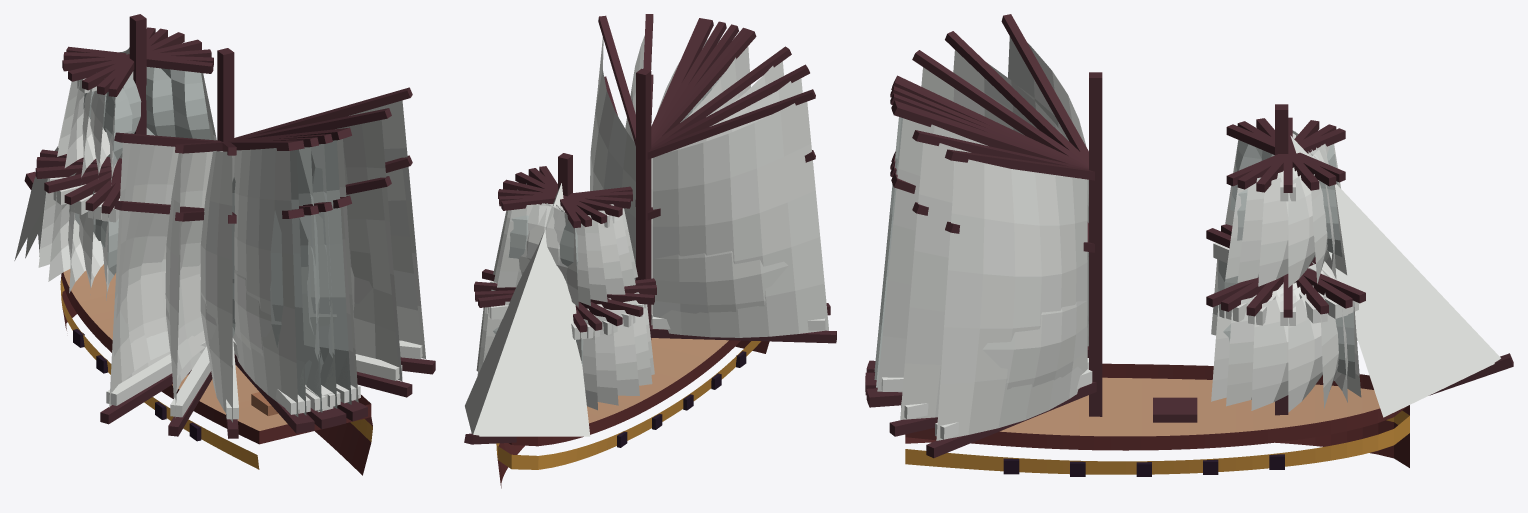
Rendered from ship.brigantine.glb.
3 views of the same model, side by side, from view 1: azimuth 30°, elevation 25°; view 2: azimuth 150°, elevation 25°; view 3: azimuth 270°, elevation 25° (orthographic). The views are drawn at different scales.
Parts seen in each view (by area): view 1: full_close_s_main, hull, full_run_main, full_beam_s_main, half_beam_p_main, full_irons_p1_main, full_broad_s_main, half_run_main, full_beam_p_main, half_broad_p_main, full_irons_s1_main, full_irons_p0_fore_top (+54 smaller); view 2: full_run_main, full_run_jib, hull, half_run_main, full_broad_p_main, main, bulwark, full_broad_p_jib, full_run_gaff, full_broad_p_fore_top, full_run_fore_course, full_broad_s_gaff (+40 smaller); view 3: full_broad_p_main, hull, full_broad_p_jib, full_beam_p_main, bulwark, full_close_p_main, half_broad_p_main, main, full_broad_p_fore_course, full_run_fore_course, full_broad_p_fore_top, full_beam_p_fore_course (+33 smaller).
Boxes of the visible parts, x1,y1,x2,y2 form: full_close_s_main: [232, 148, 298, 416]; hull: [60, 264, 372, 475]; full_run_main: [109, 142, 178, 407]; full_beam_s_main: [200, 151, 232, 422]; half_beam_p_main: [346, 188, 398, 366]; full_irons_p1_main: [308, 140, 351, 404]; full_broad_s_main: [165, 151, 212, 417]; half_run_main: [111, 210, 169, 392]; full_beam_p_main: [335, 120, 402, 381]; half_broad_p_main: [386, 168, 421, 345]; full_irons_s1_main: [232, 150, 306, 415]; full_irons_p0_fore_top: [104, 68, 211, 139]; full_run_main: [653, 102, 828, 337]; full_run_jib: [473, 183, 590, 436]; hull: [496, 338, 769, 488]; half_run_main: [653, 251, 788, 317]; full_broad_p_main: [590, 37, 635, 248]; main: [636, 68, 651, 339]; bulwark: [509, 340, 740, 446]; full_broad_p_jib: [465, 185, 560, 434]; full_run_gaff: [647, 89, 815, 159]; full_broad_p_fore_top: [526, 183, 607, 302]; full_run_fore_course: [587, 308, 639, 395]; full_broad_s_gaff: [651, 64, 809, 148]; full_broad_p_main: [936, 159, 1087, 440]; hull: [905, 377, 1409, 474]; full_broad_p_jib: [1290, 135, 1500, 417]; full_beam_p_main: [900, 143, 1074, 419]; bulwark: [905, 363, 1406, 450]; full_close_p_main: [877, 118, 987, 392]; half_broad_p_main: [982, 301, 1087, 389]; main: [1089, 72, 1102, 416]; full_broad_p_fore_course: [1251, 261, 1337, 410]; full_run_fore_course: [1288, 285, 1322, 412]; full_broad_p_fore_top: [1258, 147, 1321, 286]; full_beam_p_fore_course: [1226, 262, 1337, 406].
Bounding box in the file's own units: 1.69 × 1.96 × 2.93.
